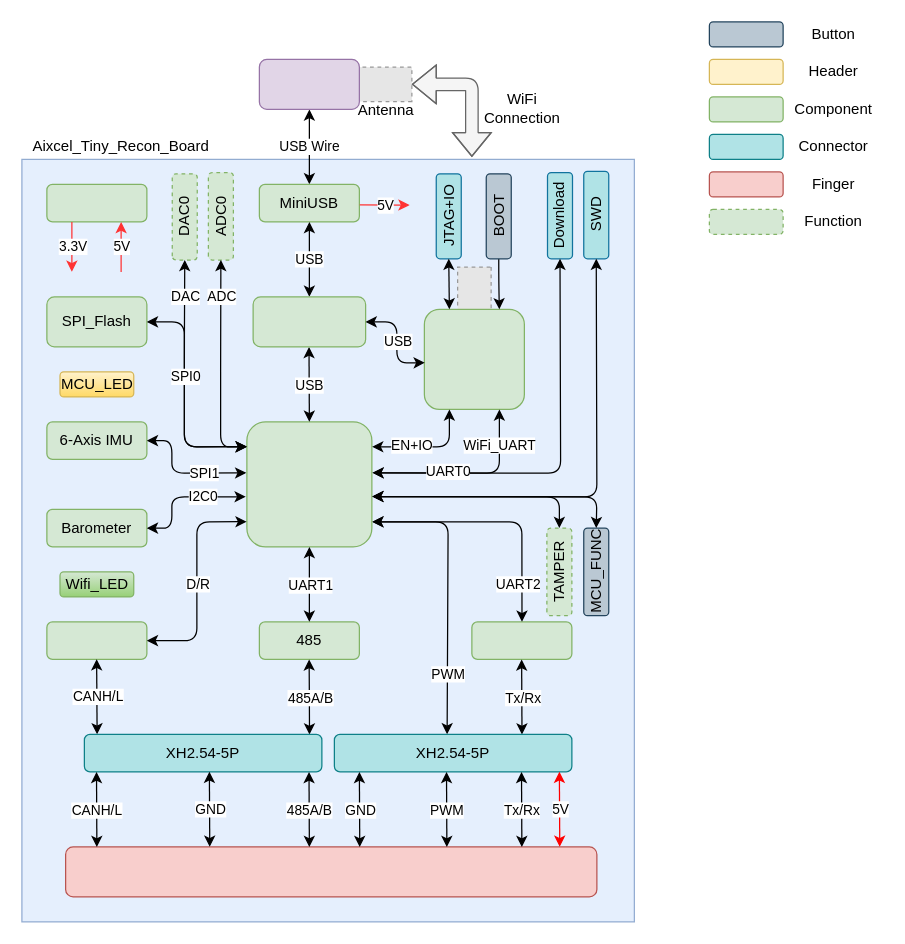
This 905x944 diagram has some shape labels left out. Grey dashed boxes stand in for pictures. The centre of each missing label's shape, as x and y in pixels:
AMS1117: the point at 96,202
CAN: the point at 96,640
Computer: the point at 308,83
FE8.1: the point at 309,321
MCU: the point at 309,484
Mini-PCIE: the point at 330,871
UART: the point at 521,640
WiFi-Module: the point at 473,358
